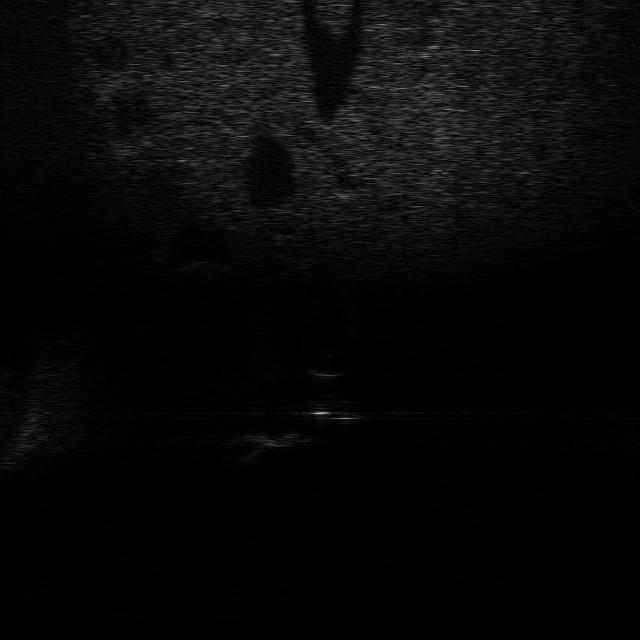ball: (298, 361, 352, 387)
square cage: (234, 428, 312, 463)
tyre: (295, 400, 367, 428)
